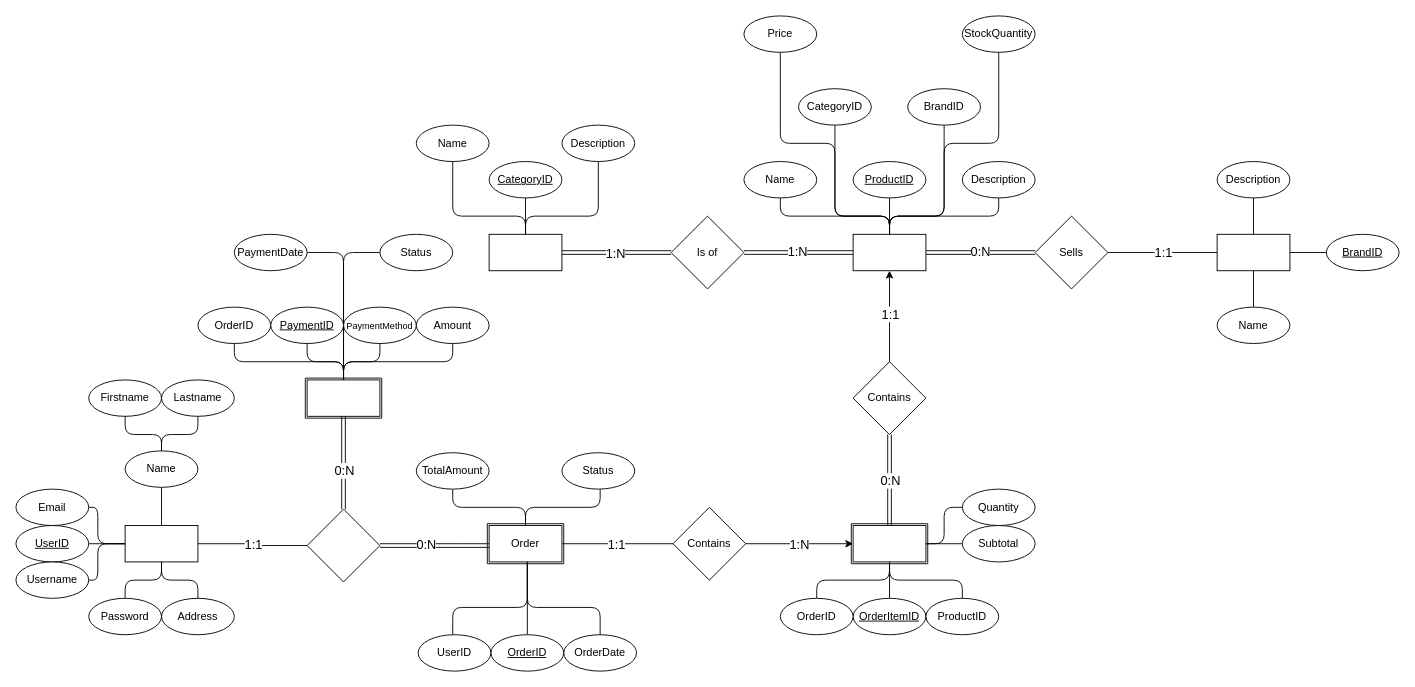
Image size: 1415x687. Some labels were removed from this diagram. The box of each missing label's shape, as (x1, y1, x2, y2) in pixels:
Brand: (1216, 233, 1290, 271)
Category: (488, 233, 562, 271)
Makes: (306, 508, 380, 582)
OrderItem: (852, 525, 926, 562)
Payment: (306, 379, 380, 416)
Product: (852, 233, 926, 271)
User: (124, 525, 198, 562)
